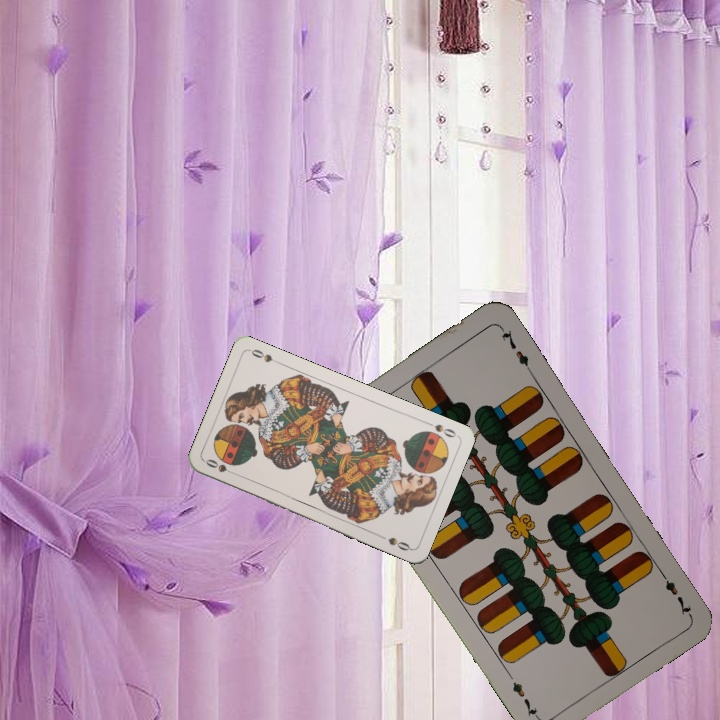E7: (655, 565, 694, 618)
SO: (201, 455, 240, 478), (421, 417, 459, 440)
